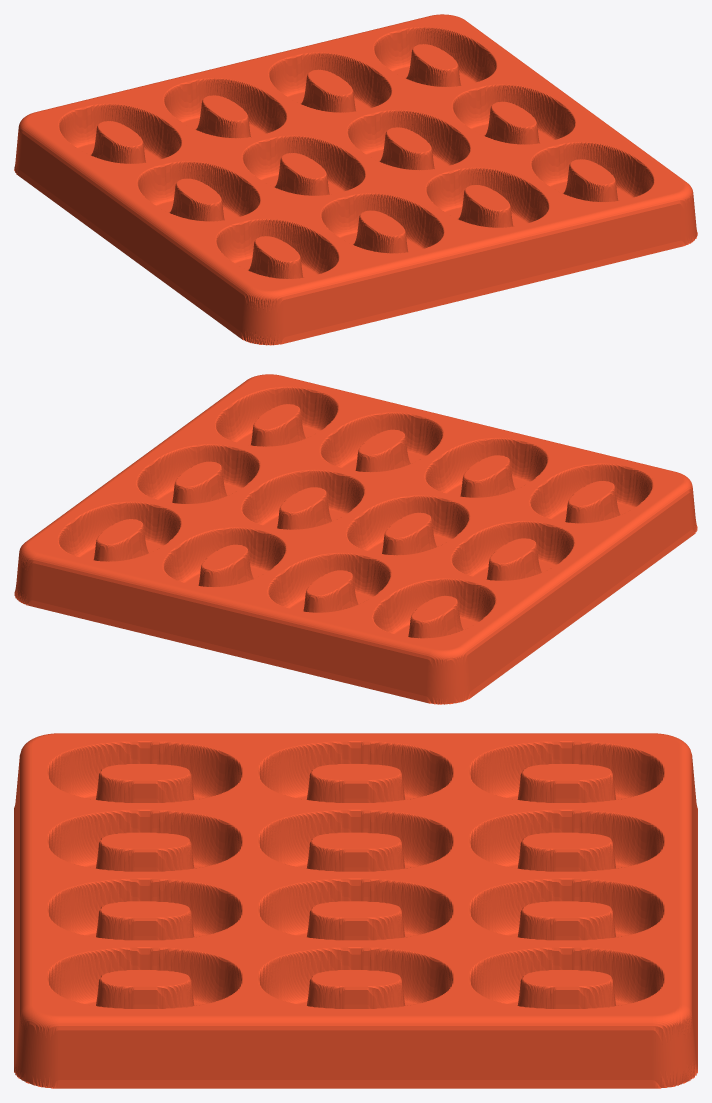
The model's file is mold.glb.
The picture shows the model from 3 angles, top to bottom: view 1: azimuth 30°, elevation 25°; view 2: azimuth 150°, elevation 25°; view 3: azimuth 270°, elevation 25°; orthographic projection. The views are drawn at different scales.
Visible parts, largest first — view 1: geometry_0; view 2: geometry_0; view 3: geometry_0.
Boxes of the visible parts, x1=… form: geometry_0: x1=14, y1=14, x2=697, y2=345; geometry_0: x1=14, y1=374, x2=697, y2=704; geometry_0: x1=14, y1=733, x2=697, y2=1088.
Size of the model in its own units: 0.1409 by 0.0145 by 0.1374.
